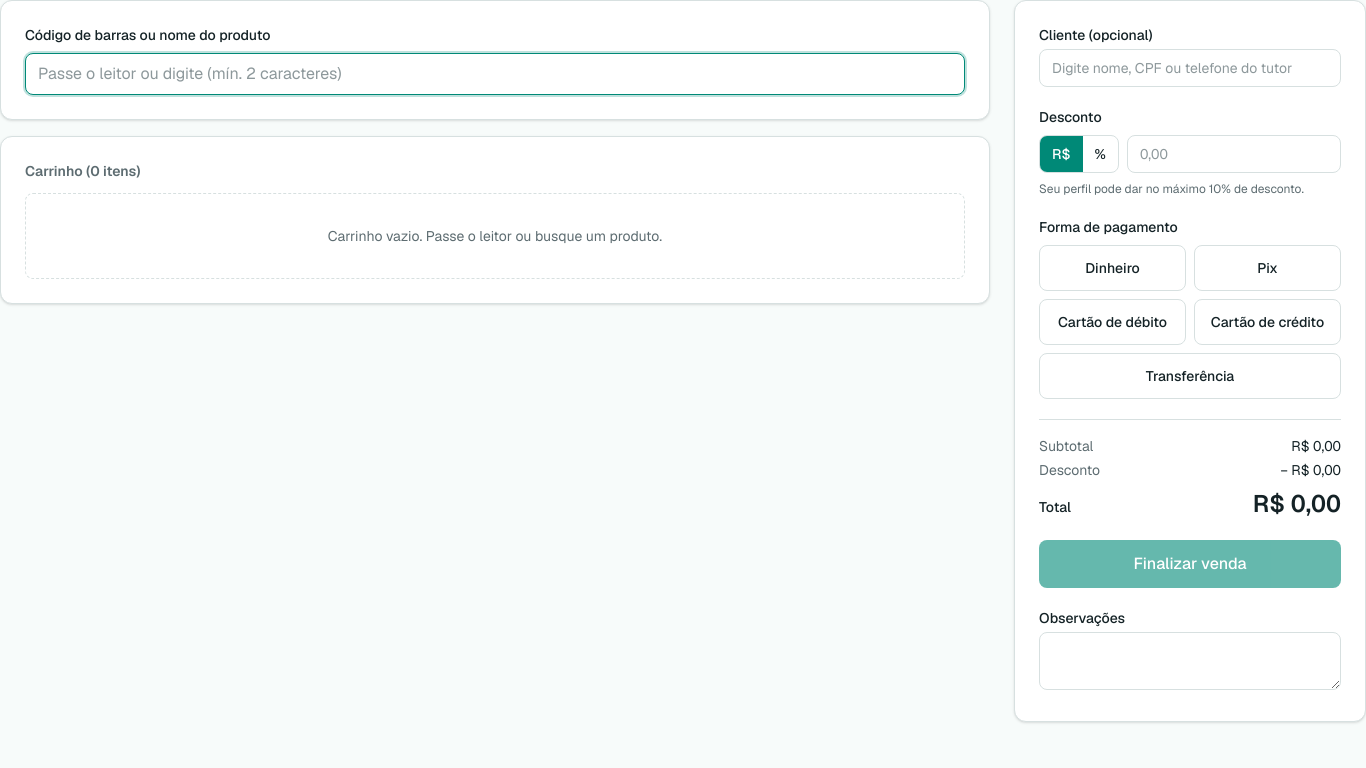
Scenario: PDV x caixa › caixa fechado em outra aba (409): bloqueia e preserva o carrinho
Step 1. Type "7891234567890" into the search field labelled "Código de barras ou nome do produto" → [495, 74], box [25,53,965,95]
Then press Enter
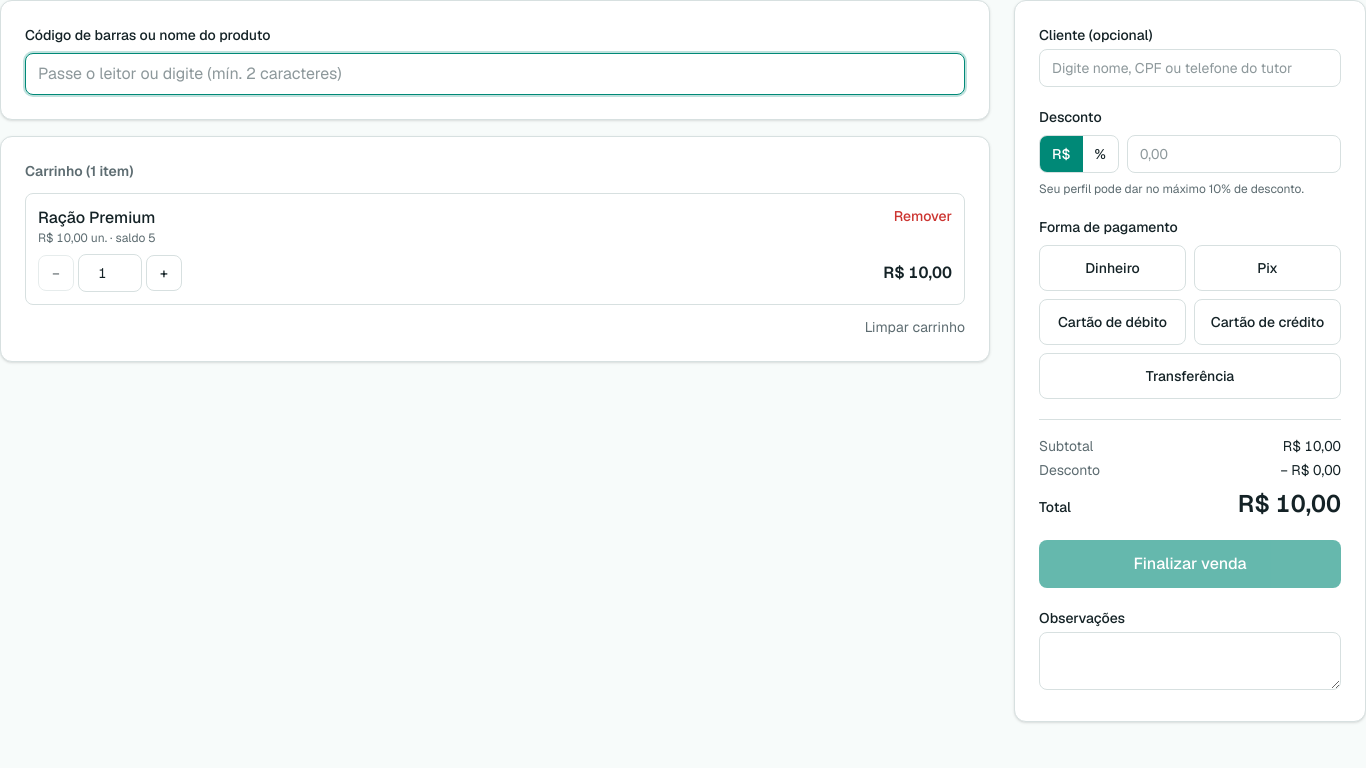
Check: the list named "Itens do carrinho" is shown, box [25,193,965,305]
Step 2. Click the radio button labelled "Pix" → [1268, 268], box [1194,245,1341,291]
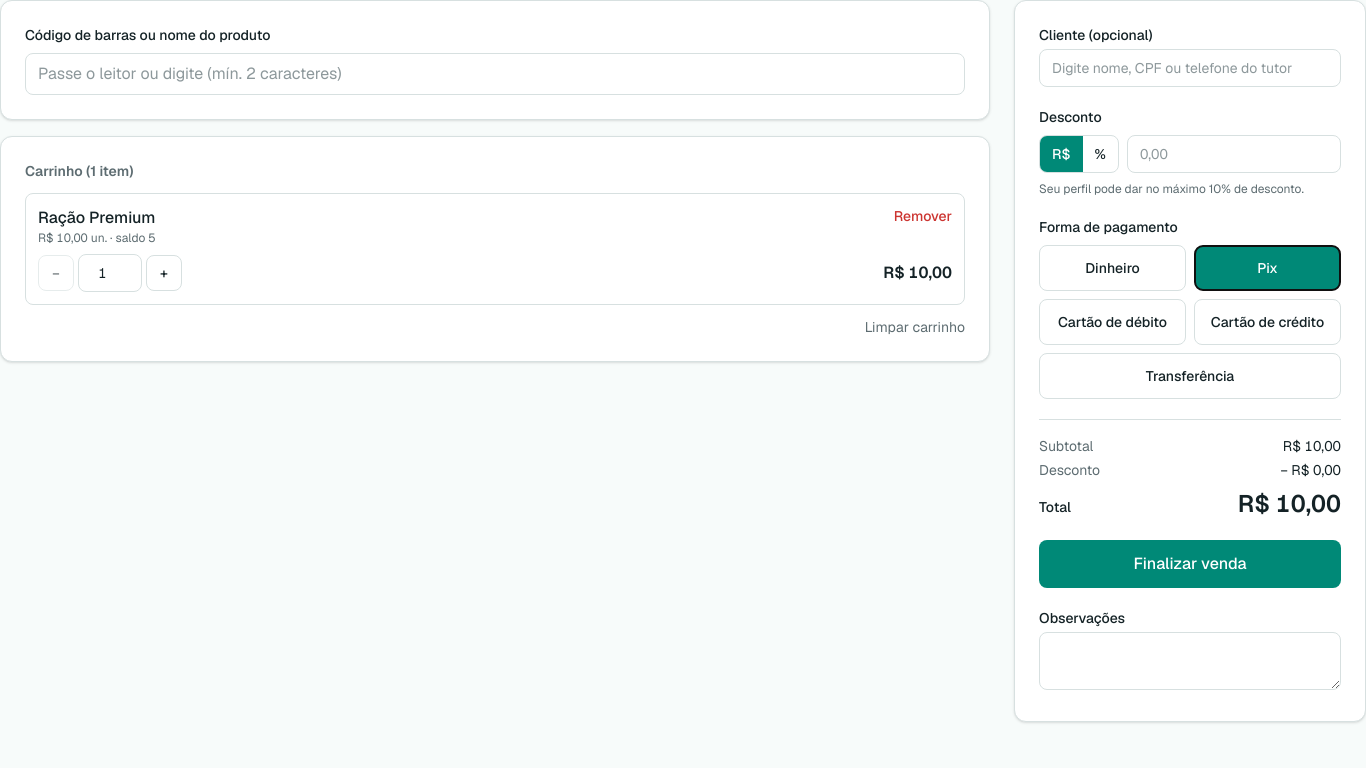
Step 3. Click the button "Finalizar venda" → [1190, 564], box [1039,540,1341,588]
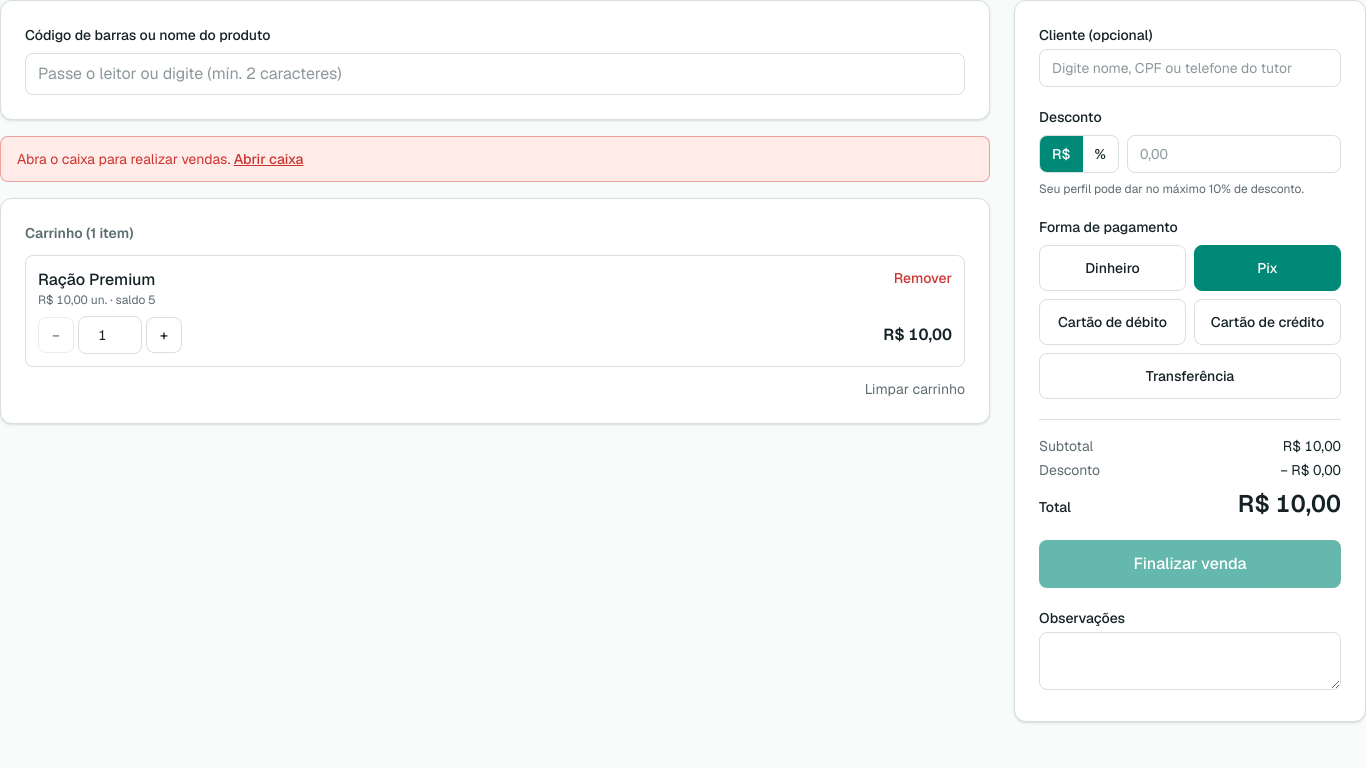
Check: the list named "Itens do carrinho" is shown, box [25,255,965,367]
Check: the text "Abra o caixa para realizar vendas." is shown, box [17,150,230,168]
Check: the button "Finalizar venda" is disabled, box [1039,540,1341,588]
